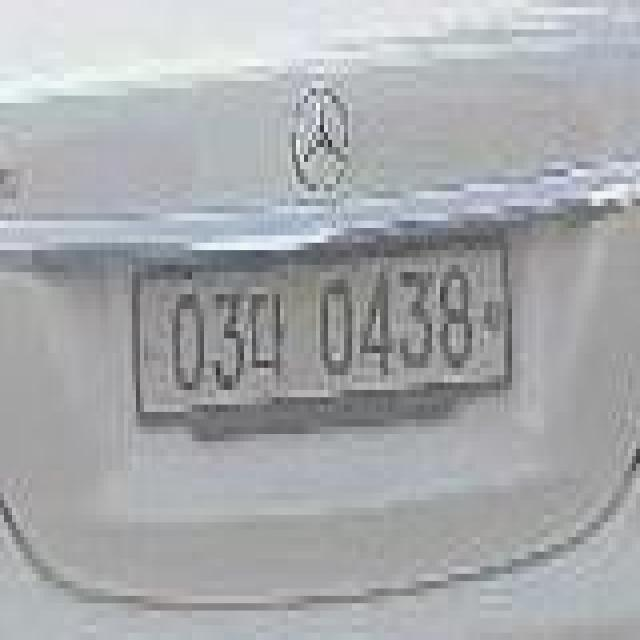illegal_plate: (129, 229, 515, 435)
